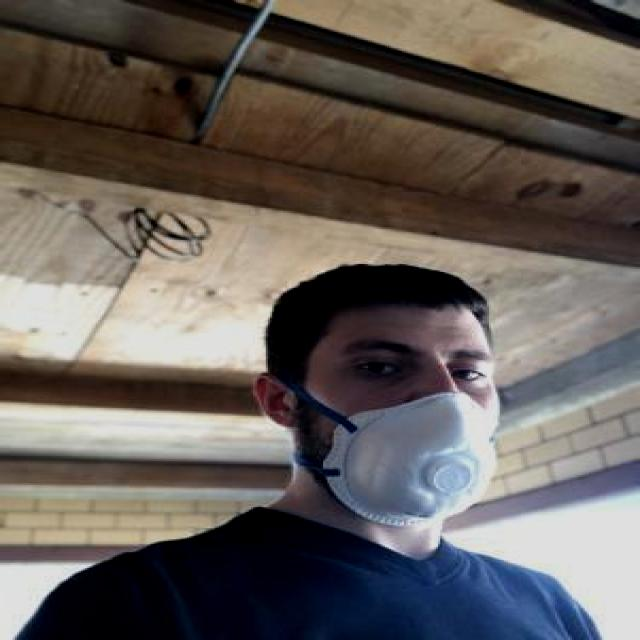face_mask: (310, 326, 502, 526)
head_nohelmet: (291, 245, 500, 342)
person: (0, 209, 542, 640)
